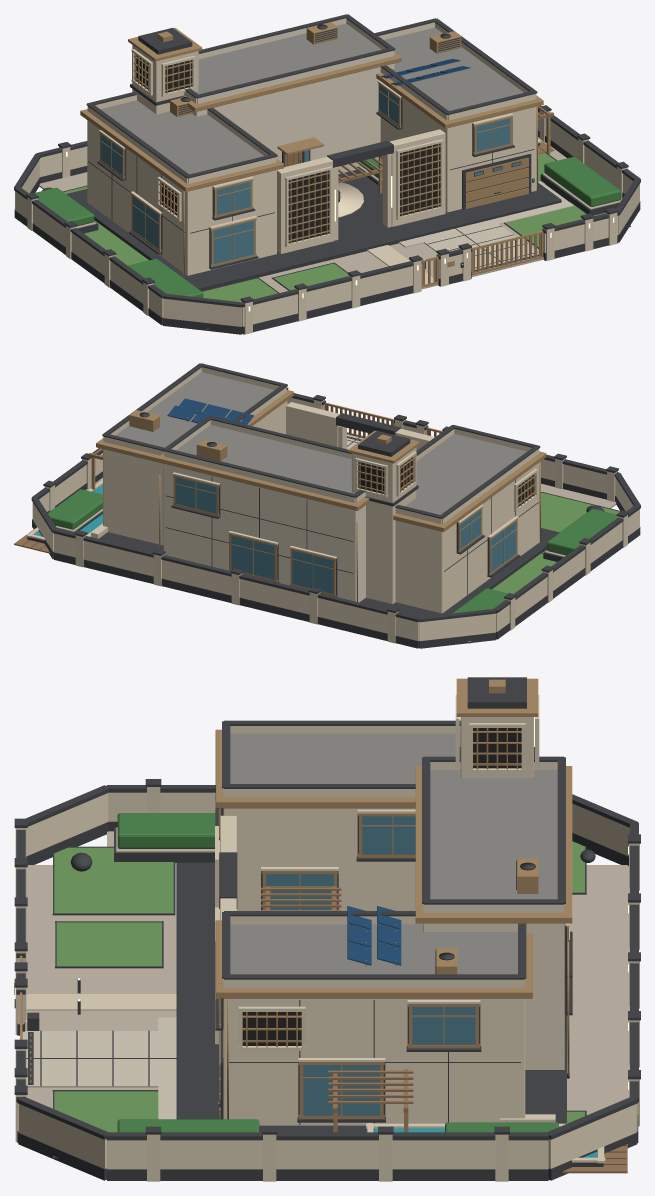
File: cottage_courtyard.glb
3 renders of one model, top to bottom at view 1: azimuth 30°, elevation 25°; view 2: azimuth 150°, elevation 25°; view 3: azimuth 270°, elevation 25°, orthographic. The views are drawn at different scales.
Visible parts, largest first — view 1: Merged_CottageBasalt, Merged_CottageSand, Merged_CottageBronze, Merged_RoofGravel, Merged_CottageTravertine, Merged_CottageLimestone, Merged_CottageCore, Merged_CottageGlass, Merged_CottageHedge, Merged_CottageLawn, Merged_CottagePaving, Merged_CottageGravel (+2 smaller); view 2: Merged_CottageSand, Merged_CottageBasalt, Merged_CottageLimestone, Merged_RoofGravel, Merged_CottageTravertine, Merged_CottageBronze, Merged_CottageGlass, Merged_CottageHedge, Merged_CottageLawn, Merged_SolarCell, Merged_CottageCore, Merged_CottageGravel (+1 smaller); view 3: Merged_CottageSand, Merged_CottageBasalt, Merged_RoofGravel, Merged_CottageGravel, Merged_CottageBronze, Merged_CottageLawn, Merged_CottageTravertine, Merged_CottagePaving, Merged_CottageGlass, Merged_CottageLimestone, Merged_CottageHedge, Merged_CottageTeak (+2 smaller).
Boxes of the visible parts, x1,y1,x2,y2 form: Merged_CottageBasalt: [14, 14, 640, 334]; Merged_CottageSand: [15, 22, 639, 326]; Merged_CottageBronze: [80, 22, 550, 287]; Merged_RoofGravel: [100, 23, 523, 174]; Merged_CottageTravertine: [27, 45, 627, 334]; Merged_CottageLimestone: [184, 18, 394, 173]; Merged_CottageCore: [136, 55, 521, 243]; Merged_CottageGlass: [101, 85, 520, 264]; Merged_CottageHedge: [35, 156, 620, 297]; Merged_CottageLawn: [63, 153, 605, 302]; Merged_CottagePaving: [399, 181, 573, 275]; Merged_CottageGravel: [39, 137, 621, 292]; Merged_CottageSand: [32, 367, 639, 640]; Merged_CottageBasalt: [22, 363, 640, 648]; Merged_CottageLimestone: [163, 420, 365, 602]; Merged_RoofGravel: [115, 372, 526, 514]; Merged_CottageTravertine: [26, 399, 627, 643]; Merged_CottageBronze: [91, 390, 546, 601]; Merged_CottageGlass: [175, 477, 516, 593]; Merged_CottageHedge: [47, 489, 617, 613]; Merged_CottageLawn: [467, 492, 619, 641]; Merged_SolarCell: [167, 398, 253, 424]; Merged_CottageCore: [358, 457, 533, 506]; Merged_CottageGravel: [56, 477, 616, 556]; Merged_CottageSand: [18, 726, 637, 1169]; Merged_CottageBasalt: [14, 677, 640, 1180]; Merged_RoofGravel: [230, 733, 557, 974]; Merged_CottageGravel: [26, 827, 629, 1115]; Merged_CottageBronze: [14, 678, 572, 1132]; Merged_CottageLawn: [54, 841, 584, 1156]; Merged_CottageTravertine: [15, 695, 639, 1181]; Merged_CottagePaving: [22, 1017, 176, 1119]; Merged_CottageGlass: [266, 816, 475, 1115]; Merged_CottageLimestone: [423, 762, 564, 1069]; Merged_CottageHedge: [117, 813, 558, 1132]; Merged_CottageTeak: [22, 886, 627, 1173].
Size of the model in its own units: 35.96 by 11.64 by 26.99.
